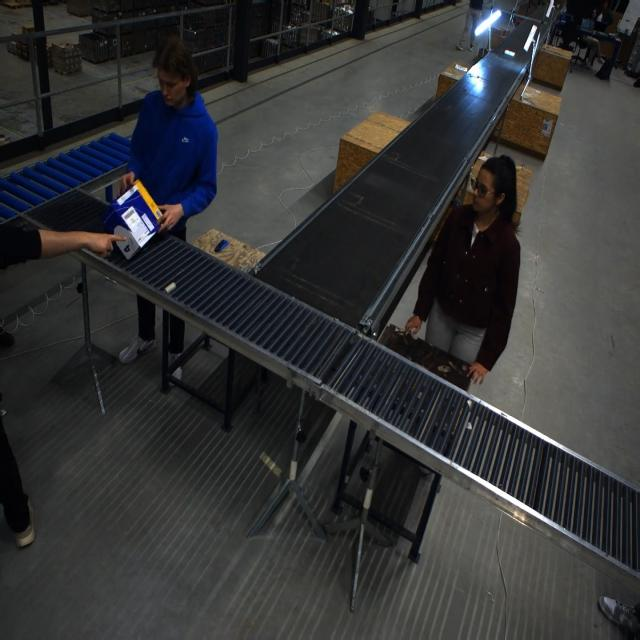box: (101, 180, 165, 259)
